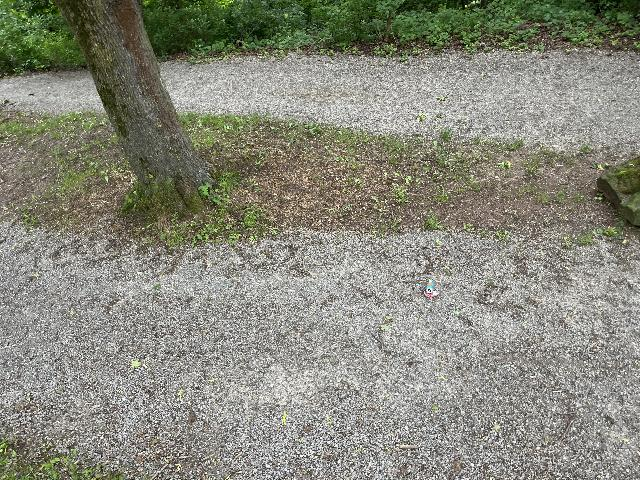can: (425, 277, 436, 294), (423, 290, 440, 299)
